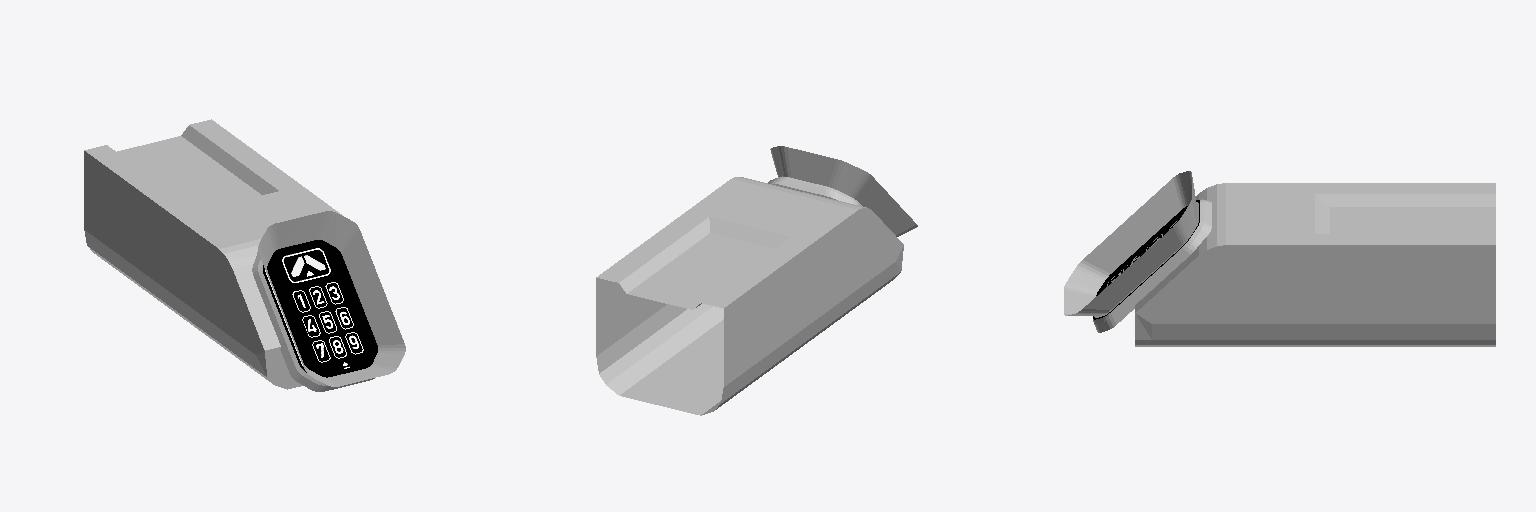
3 views of the same model, side by side, from view 1: azimuth 30°, elevation 25°; view 2: azimuth 150°, elevation 25°; view 3: azimuth 270°, elevation 25° (orthographic).
Parts seen in each view (by area): view 1: Prop_AccessPoint_Plane.136; view 2: Prop_AccessPoint_Plane.136; view 3: Prop_AccessPoint_Plane.136.
Boxes of the visible parts, x1,y1,x2,y2 form: Prop_AccessPoint_Plane.136: [84, 119, 405, 391]; Prop_AccessPoint_Plane.136: [596, 146, 917, 415]; Prop_AccessPoint_Plane.136: [1064, 171, 1495, 346].
Size of the model in its own units: 0.4412 by 0.4679 by 1.3.
Materials: 4 (1 with a texture image).